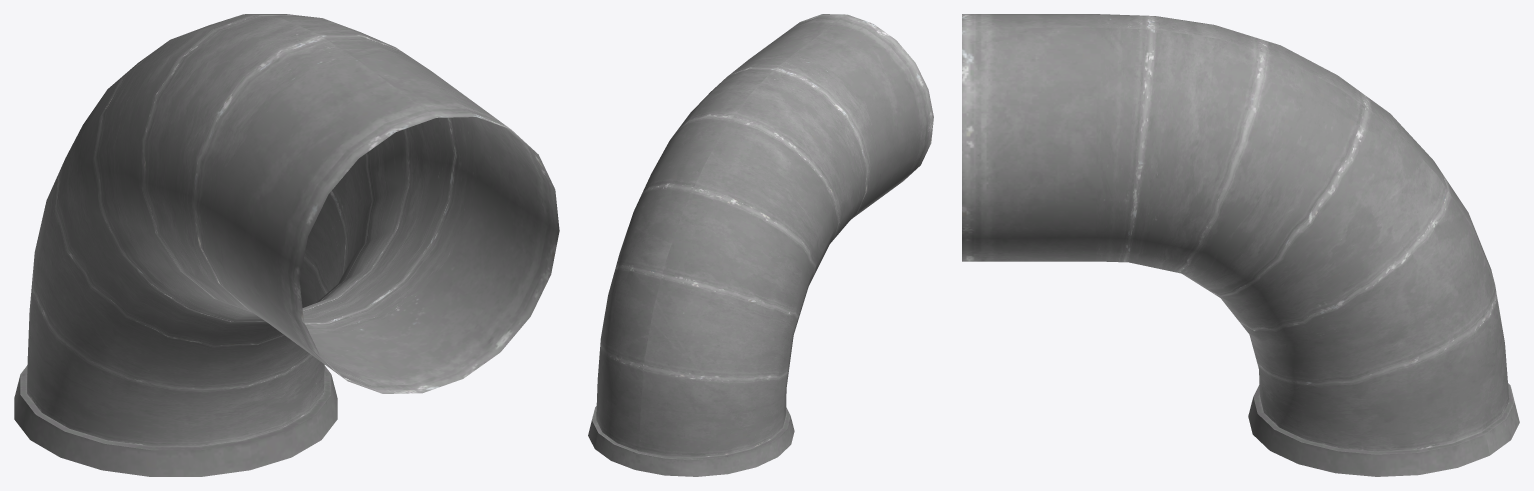
Rendered from SM_Air_Vent_01l.glb.
3 views of the same model, side by side, from view 1: azimuth 30°, elevation 25°; view 2: azimuth 150°, elevation 25°; view 3: azimuth 270°, elevation 25° (orthographic). The views are drawn at different scales.
Visible parts, largest first — view 1: SM_Air_Vent_01l; view 2: SM_Air_Vent_01l; view 3: SM_Air_Vent_01l.
Part boxes in pixels (<box>): SM_Air_Vent_01l: <box>14,14,559,476</box>; SM_Air_Vent_01l: <box>588,14,933,476</box>; SM_Air_Vent_01l: <box>962,14,1519,476</box>.
Bounding box in the file's own units: 0.3219 × 0.5302 × 0.661.
1 material, 1 textured.
